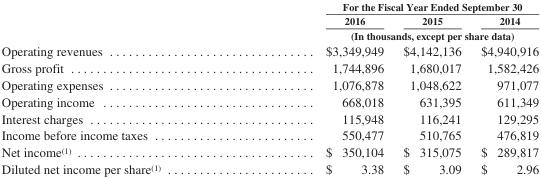table: (0, 0, 538, 175)
table column: (0, 0, 242, 175), (242, 0, 392, 175), (392, 0, 470, 175), (470, 0, 538, 175)
table column header: (0, 0, 538, 42)
table row: (0, 42, 538, 59), (0, 59, 538, 76), (0, 92, 538, 109), (0, 109, 538, 126), (0, 126, 538, 143), (0, 143, 538, 160), (0, 76, 538, 92), (0, 27, 538, 42), (0, 160, 538, 175), (0, 13, 538, 27), (0, 0, 538, 13)
table spanning cell: (242, 27, 538, 42), (242, 0, 538, 13)
